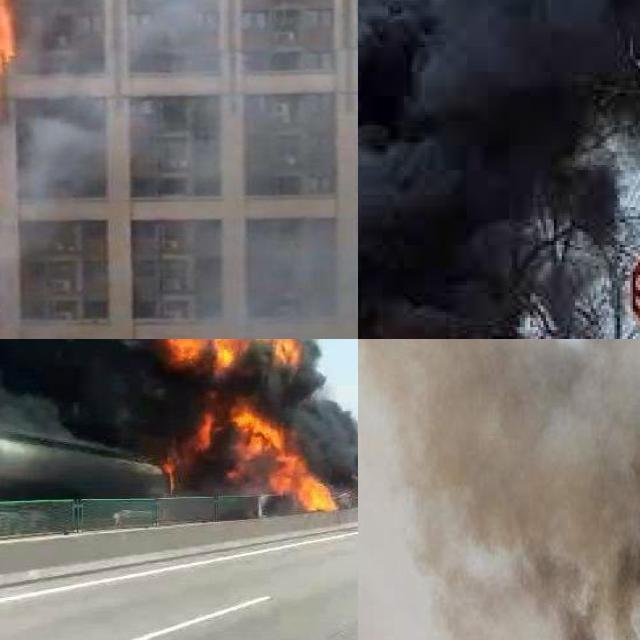fire: (147, 339, 347, 513)
smoke: (26, 0, 358, 339), (358, 0, 640, 339), (358, 339, 640, 640), (0, 339, 358, 481)
